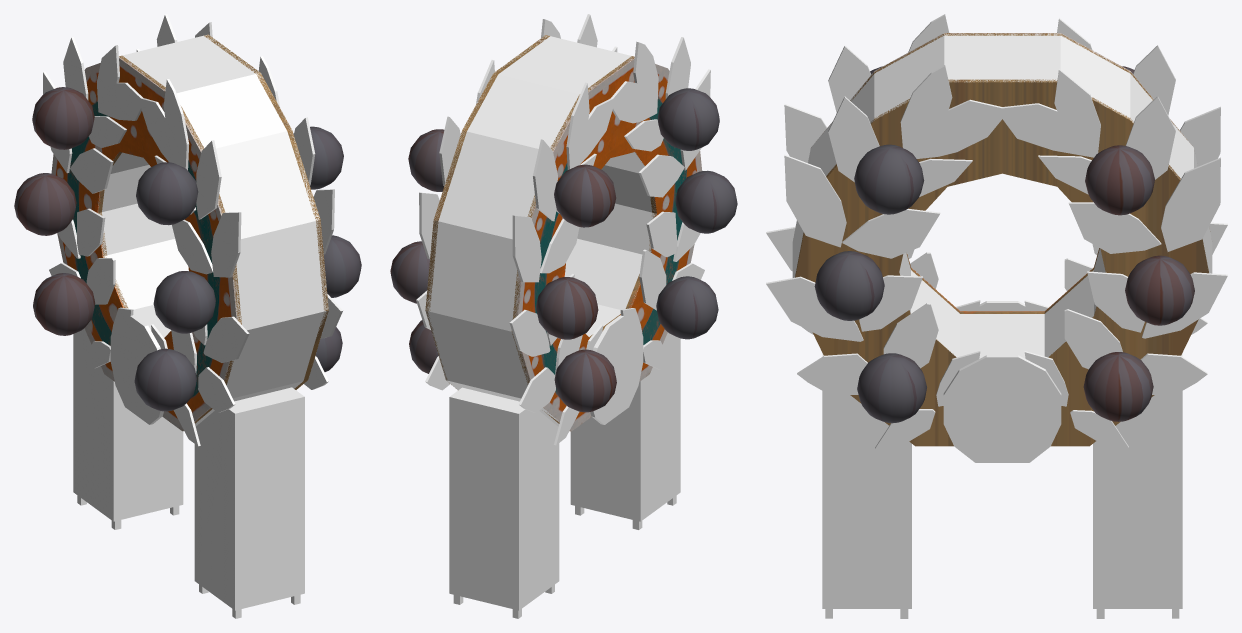
Rendered from objects_un_dlc0_c01gate01.gltf.
The picture shows the model from 3 angles, left to right: view 1: azimuth 30°, elevation 25°; view 2: azimuth 150°, elevation 25°; view 3: azimuth 270°, elevation 25°; orthographic projection. The views are drawn at different scales.
Parts seen in each view (by area): view 1: um_objects_un_dlc0_c01gate01_model_lod0Shape:objects_un_dlc0 (×4), um_objects_un_dlc0_c01gate01_model_lod1Shape:objects_un_dlc0, um_objects_un_dlc0_c01gate01_model_lod2Shape:objects_un_dlc0; view 2: um_objects_un_dlc0_c01gate01_model_lod0Shape:objects_un_dlc0 (×4), um_objects_un_dlc0_c01gate01_model_lod1Shape:objects_un_dlc0, um_objects_un_dlc0_c01gate01_model_lod2Shape:objects_un_dlc0; view 3: um_objects_un_dlc0_c01gate01_model_lod0Shape:objects_un_dlc0 (×4), um_objects_un_dlc0_c01gate01_model_lod1Shape:objects_un_dlc0, um_objects_un_dlc0_c01gate01_model_lod2Shape:objects_un_dlc0.
Part boxes in pixels (x1,y1,x2,y2): um_objects_un_dlc0_c01gate01_model_lod0Shape:objects_un_dlc0 (×4): (14,14,361,618); um_objects_un_dlc0_c01gate01_model_lod1Shape:objects_un_dlc0: (102,35,323,426); um_objects_un_dlc0_c01gate01_model_lod2Shape:objects_un_dlc0: (97,35,328,388); um_objects_un_dlc0_c01gate01_model_lod0Shape:objects_un_dlc0 (×4): (390,14,737,618); um_objects_un_dlc0_c01gate01_model_lod1Shape:objects_un_dlc0: (430,36,651,426); um_objects_un_dlc0_c01gate01_model_lod2Shape:objects_un_dlc0: (425,35,656,422); um_objects_un_dlc0_c01gate01_model_lod0Shape:objects_un_dlc0 (×4): (766,14,1227,618); um_objects_un_dlc0_c01gate01_model_lod1Shape:objects_un_dlc0: (792,35,1212,339); um_objects_un_dlc0_c01gate01_model_lod2Shape:objects_un_dlc0: (792,33,1212,358).
Size of the model in its own units: 4.13 by 9.94 by 7.41.
Materials: 5 (2 with a texture image).
